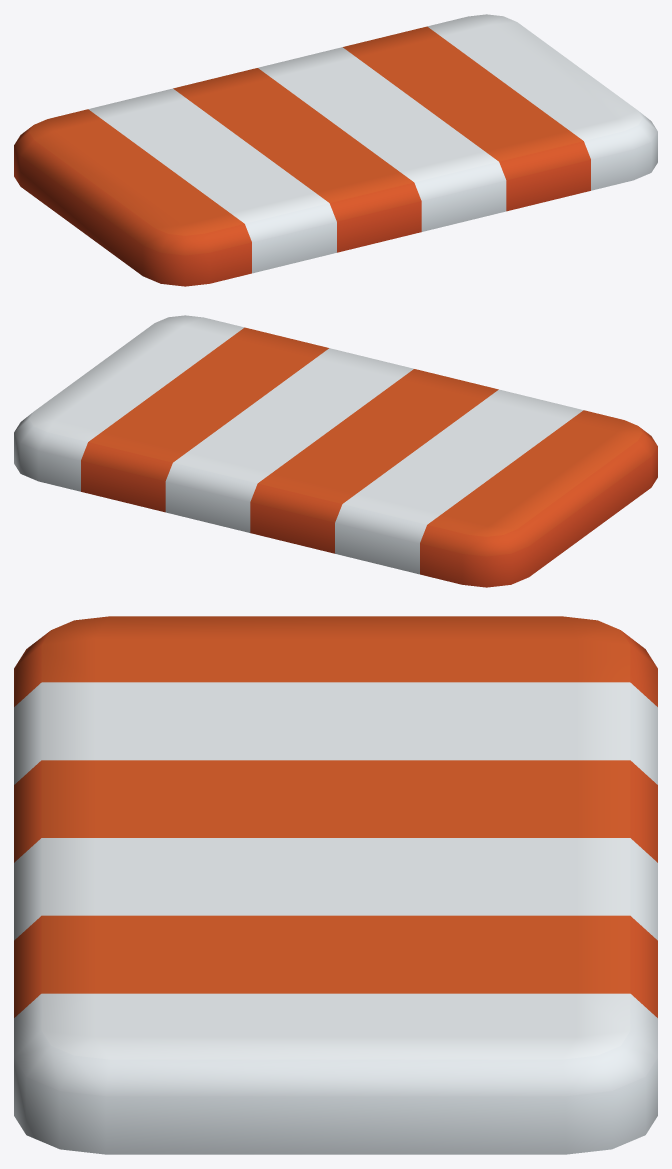
The model's file is Doormat.glb.
The picture shows the model from 3 angles, top to bottom: view 1: azimuth 30°, elevation 25°; view 2: azimuth 150°, elevation 25°; view 3: azimuth 270°, elevation 25°; orthographic projection. The views are drawn at different scales.
Visible parts, largest first — view 1: doormat; view 2: doormat; view 3: doormat.
Part boxes in pixels (x1,y1,x2,y2): doormat: (14,14,657,286); doormat: (14,315,657,587); doormat: (14,616,657,1154).
Size of the model in its own units: 1.2 by 0.1 by 0.7.
Materials: 1 (1 with a texture image).
